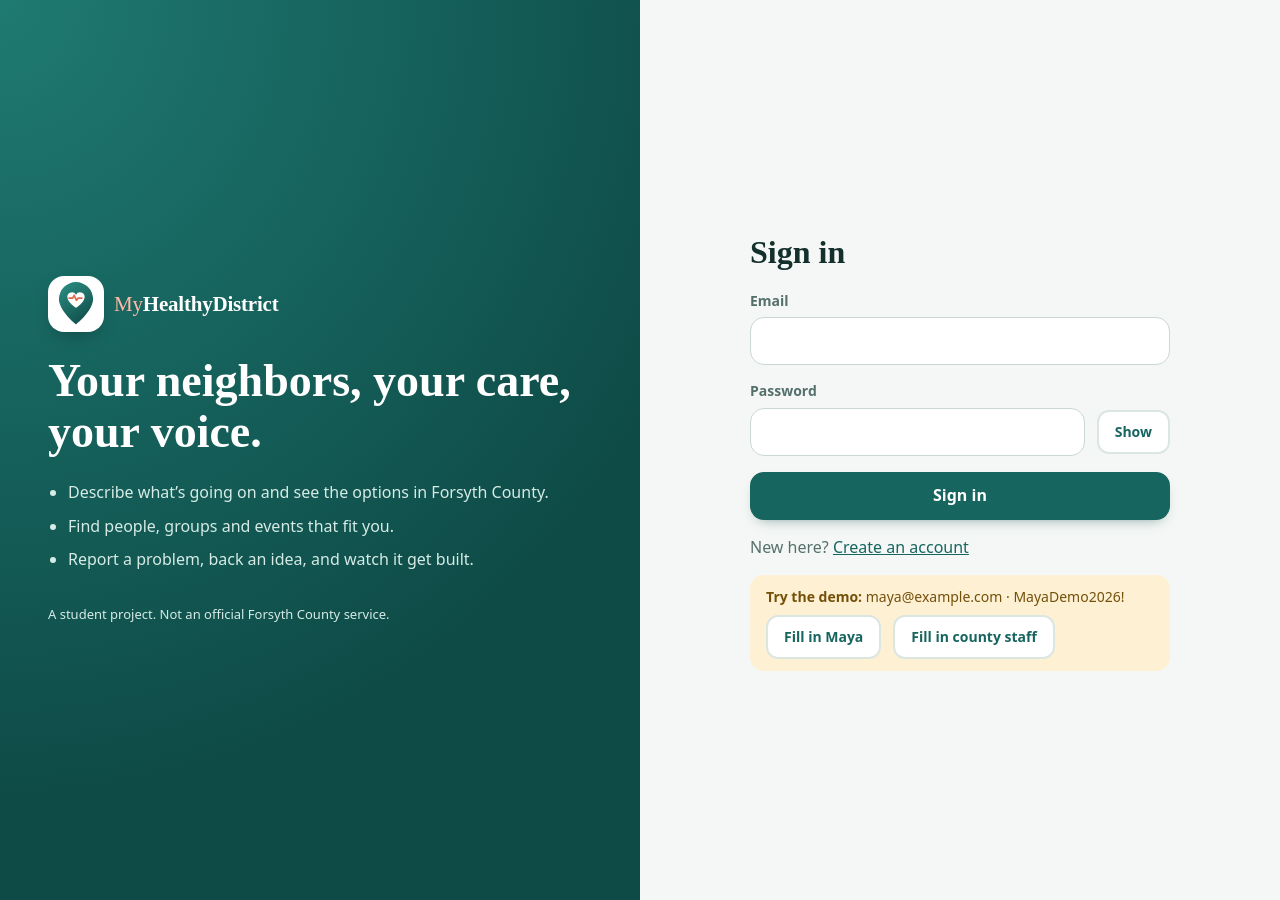
it: login screens › shows the server error when the password is wrong
In the field labelled "Email": point(960, 342) [750, 318, 1170, 366], type "maya@example.com"
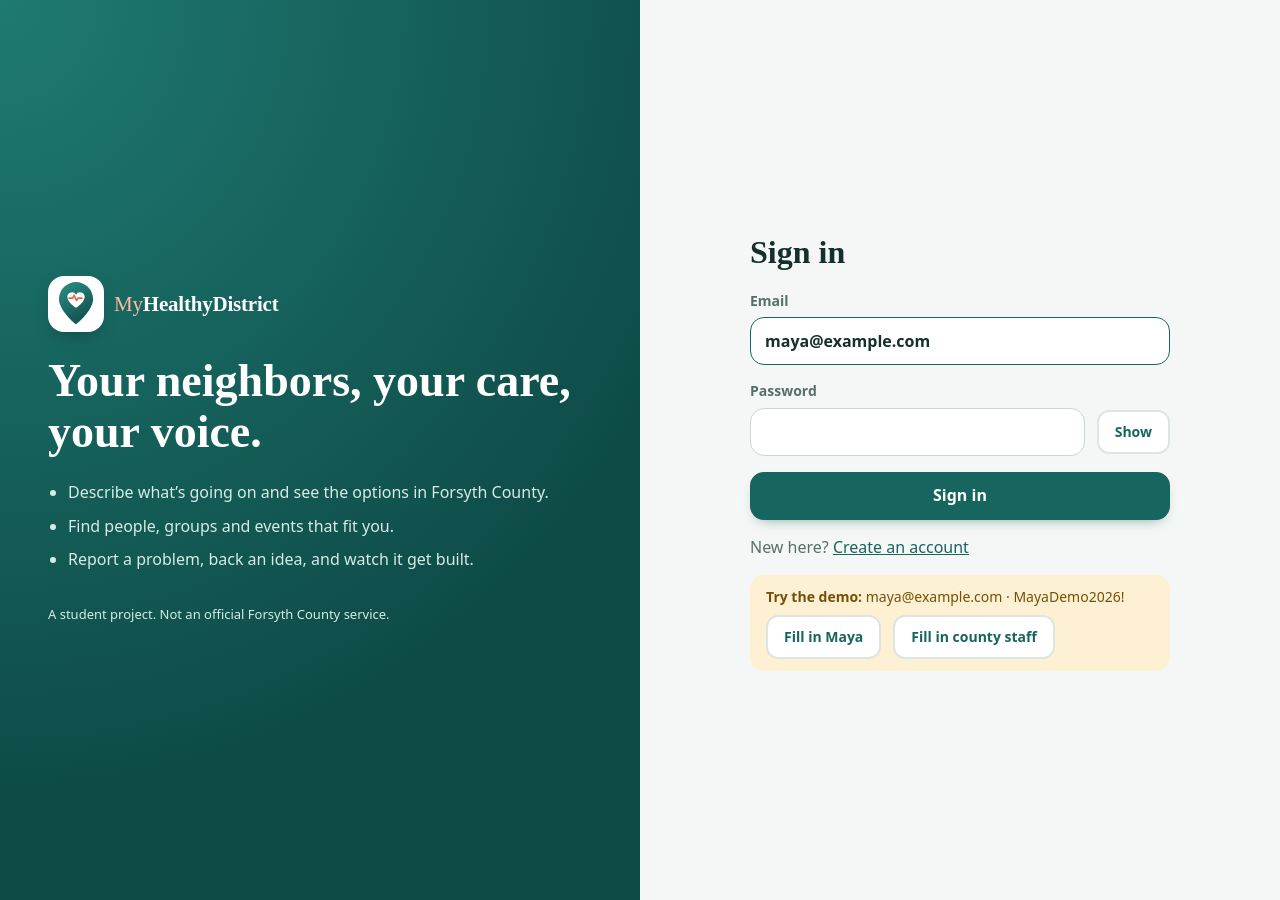
In the password field labelled "Password": point(917, 432) [750, 408, 1085, 456], type "nope-nope"
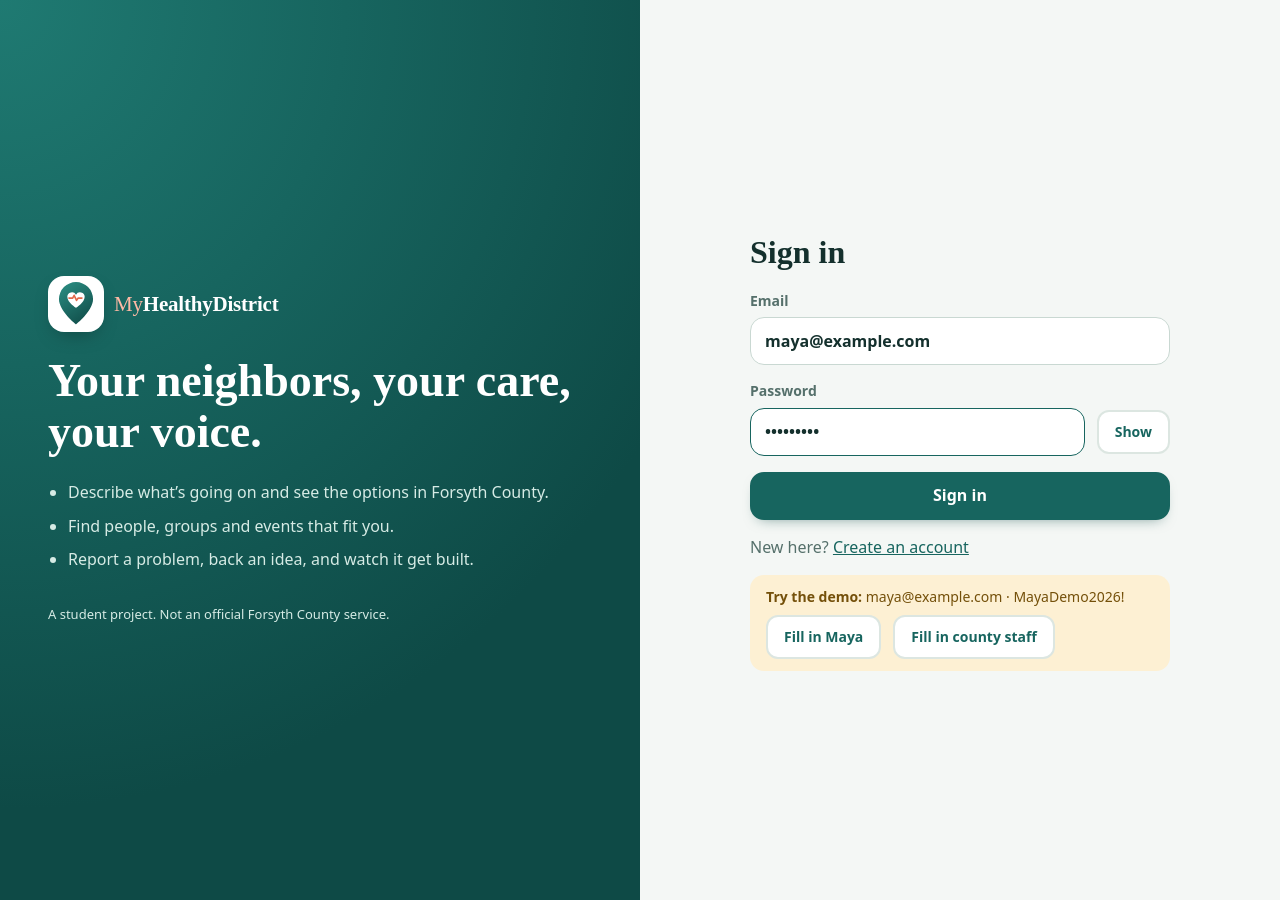
Click the button "Sign in": point(960, 496) [750, 472, 1170, 520]
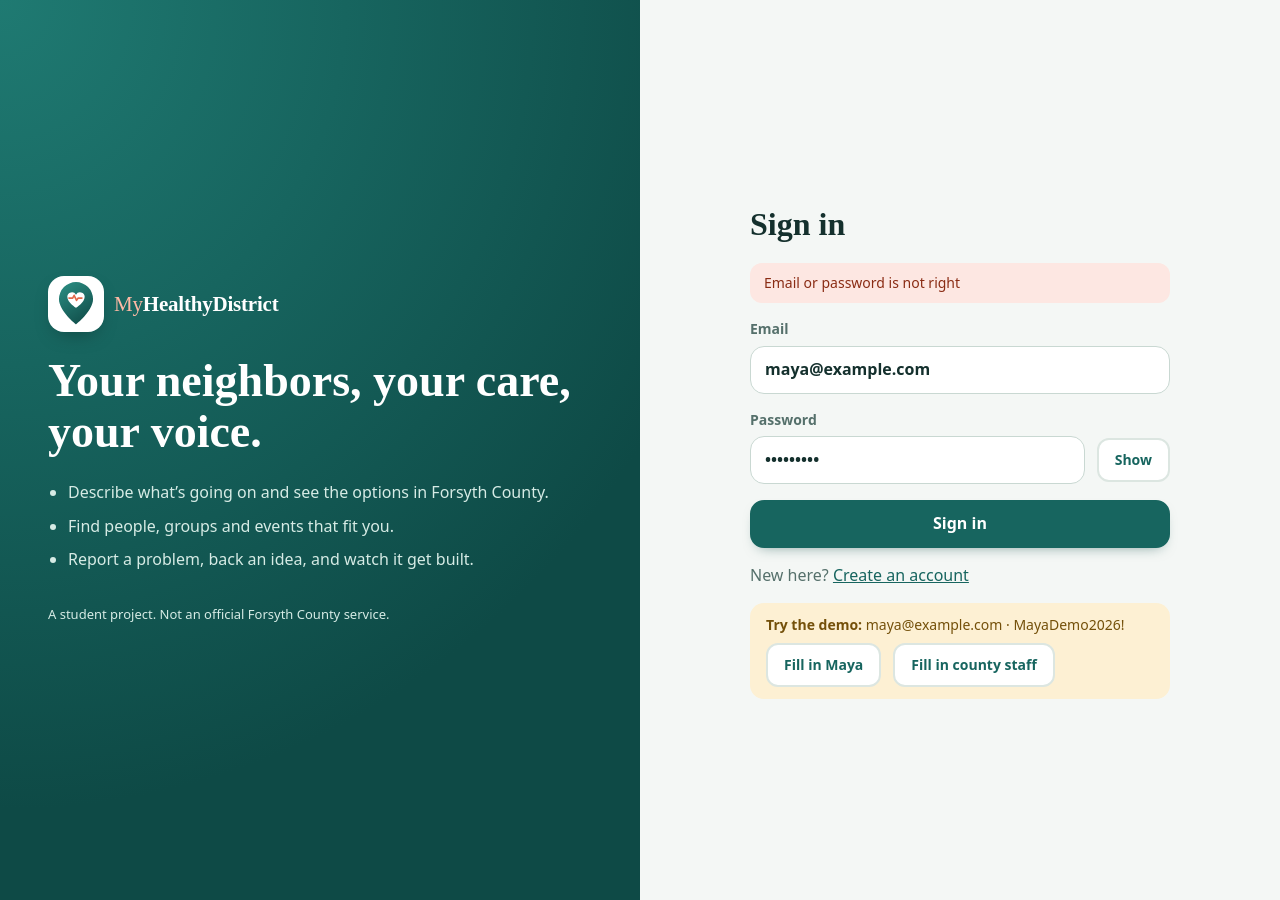
expect the message reads "Email or password is not right": met, box [764, 273, 960, 292]
